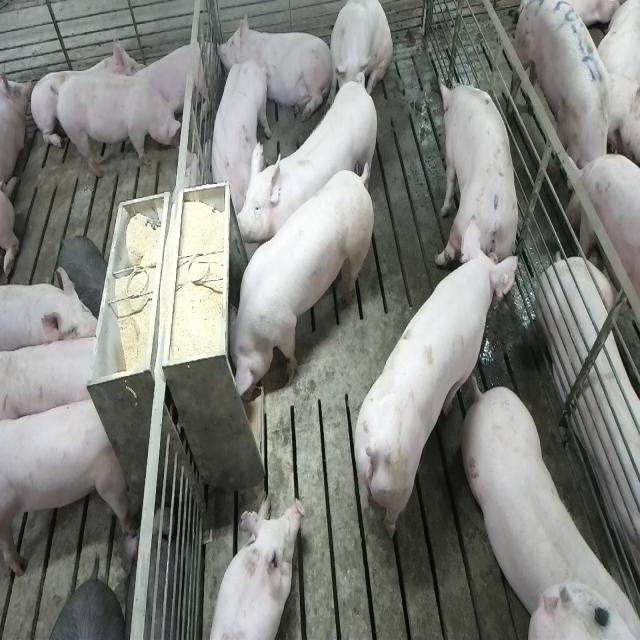Feeding: (220, 162, 370, 406)
Lateral_lying: (540, 161, 640, 583)
Sitting: (328, 1, 392, 107)
Standing: (348, 243, 514, 549), (458, 376, 634, 633), (239, 78, 383, 256), (2, 392, 134, 584), (514, 0, 616, 213), (434, 74, 522, 276), (57, 69, 185, 179), (3, 333, 104, 429), (208, 59, 268, 212), (0, 267, 101, 355)
Sternal_lying: (206, 493, 306, 640), (30, 29, 138, 149), (218, 11, 329, 126), (135, 35, 212, 123)
